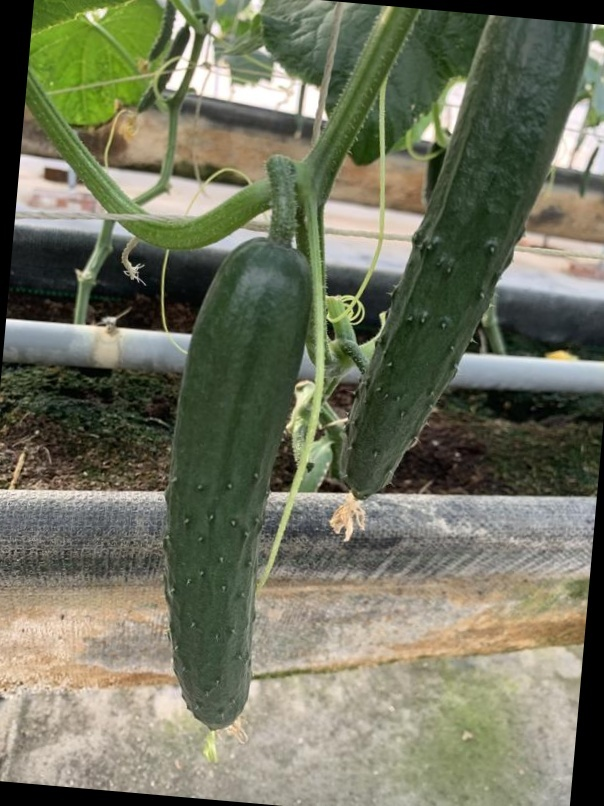mature: (332, 19, 589, 502), (153, 243, 305, 736)
